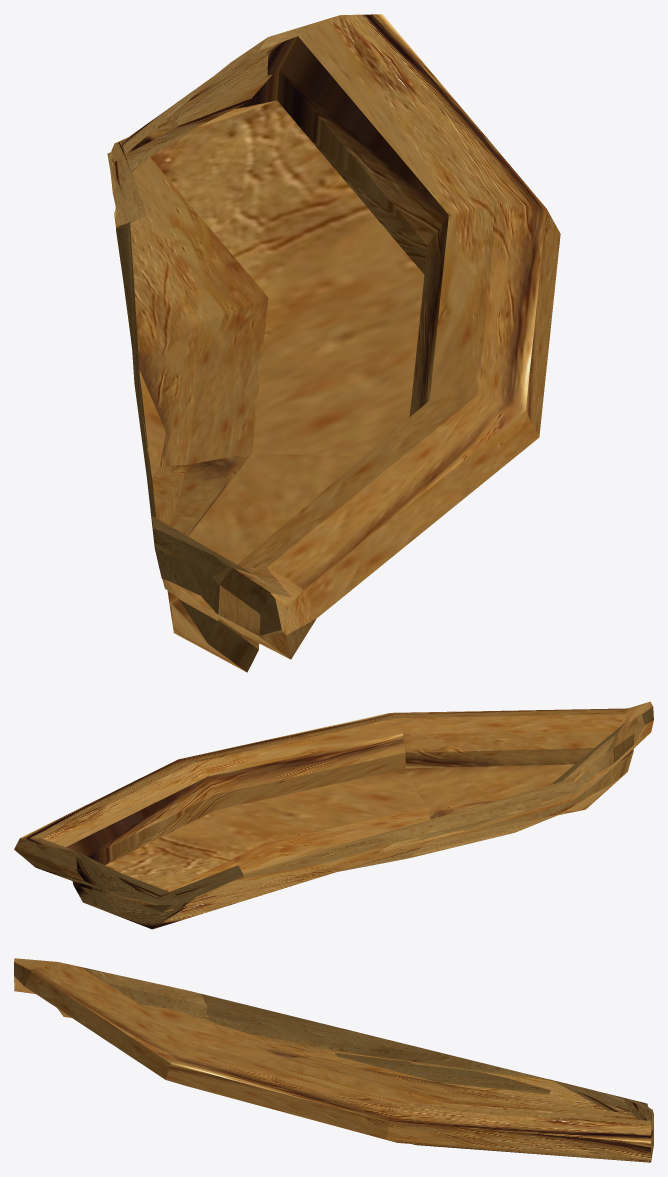
The model's file is sugarpoly5.gltf.
3 views of the same model, one above another, from view 1: azimuth 30°, elevation 25°; view 2: azimuth 150°, elevation 25°; view 3: azimuth 270°, elevation 25° (orthographic). The views are drawn at different scales.
Visible parts, largest first — view 1: 평면; view 2: 평면; view 3: 평면.
Boxes of the visible parts, x1,y1,x2,y2 form: 평면: (107,14,560,672); 평면: (14,701,653,929); 평면: (14,958,653,1162).
Bounding box in the file's own units: 0.5348 × 0.0995 × 0.7853.
Materials: 1 (1 with a texture image).
